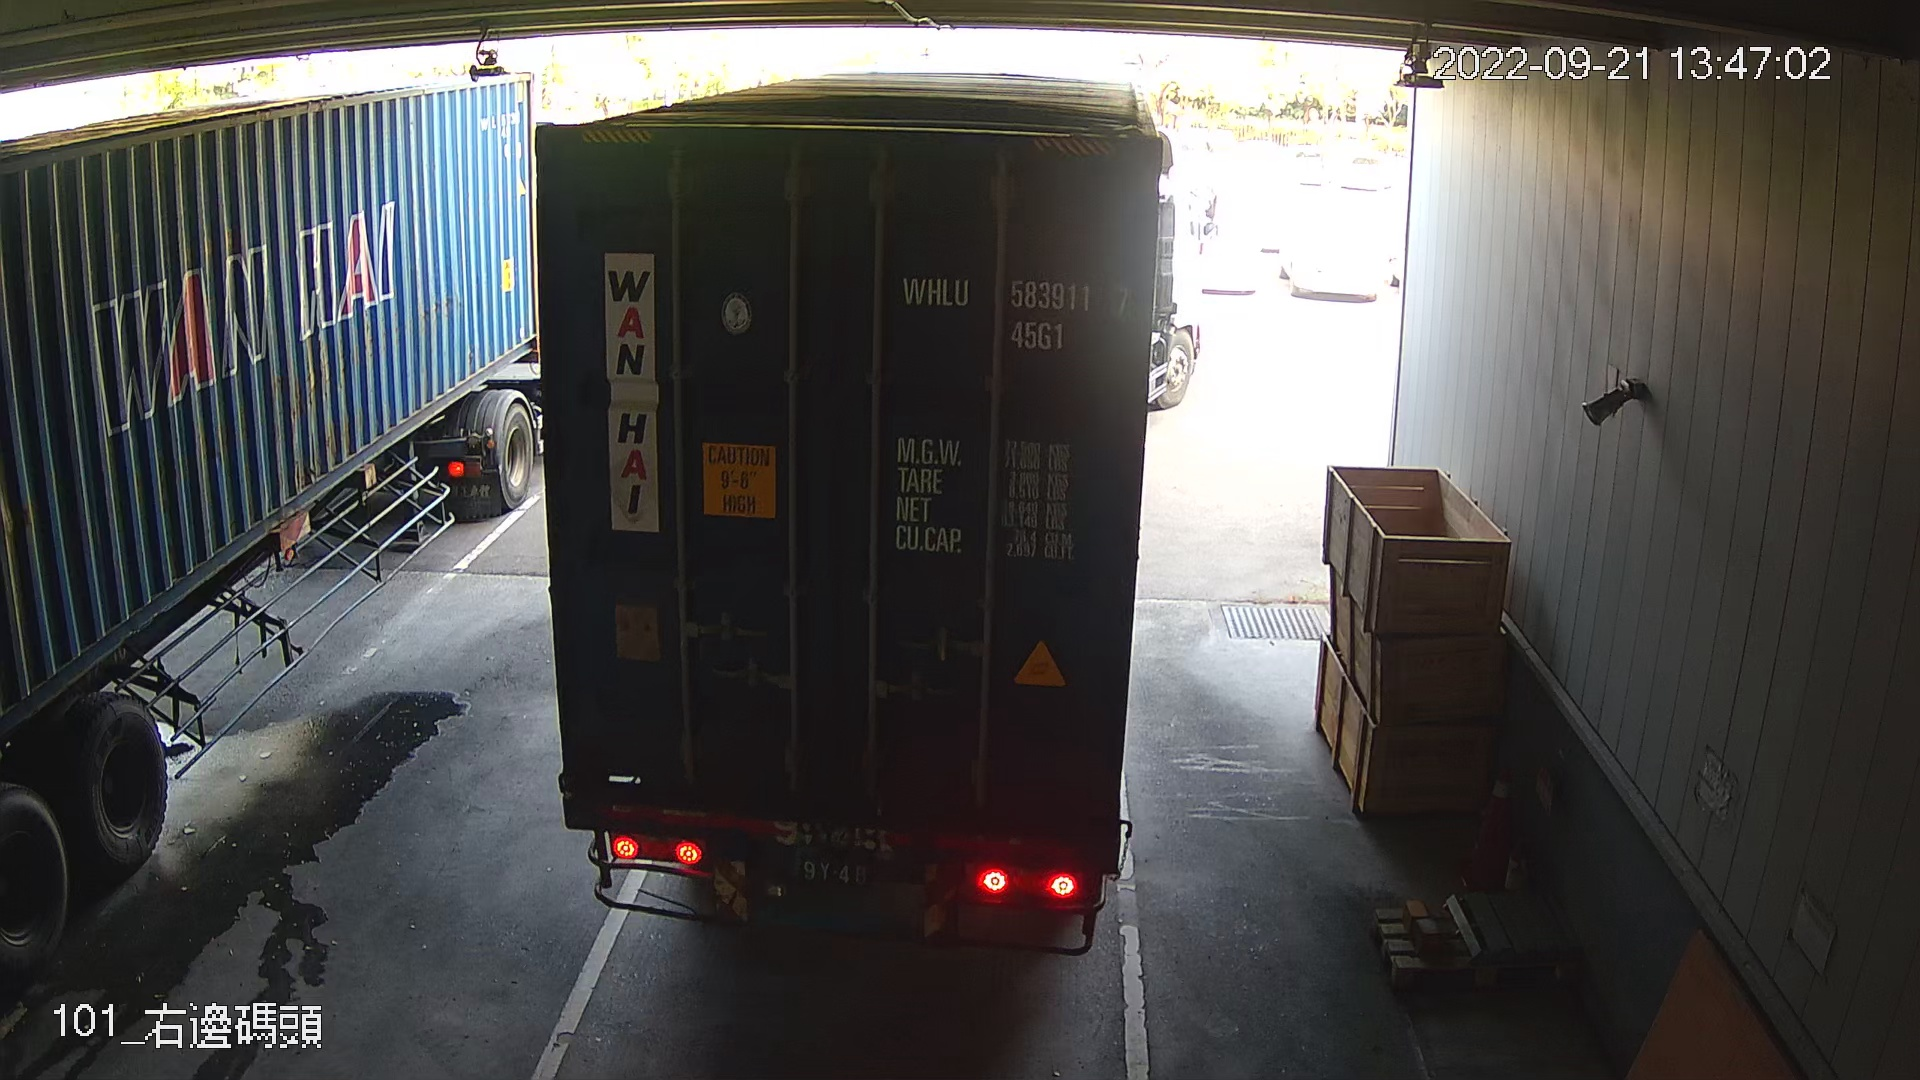container: (891, 266, 1145, 361)
